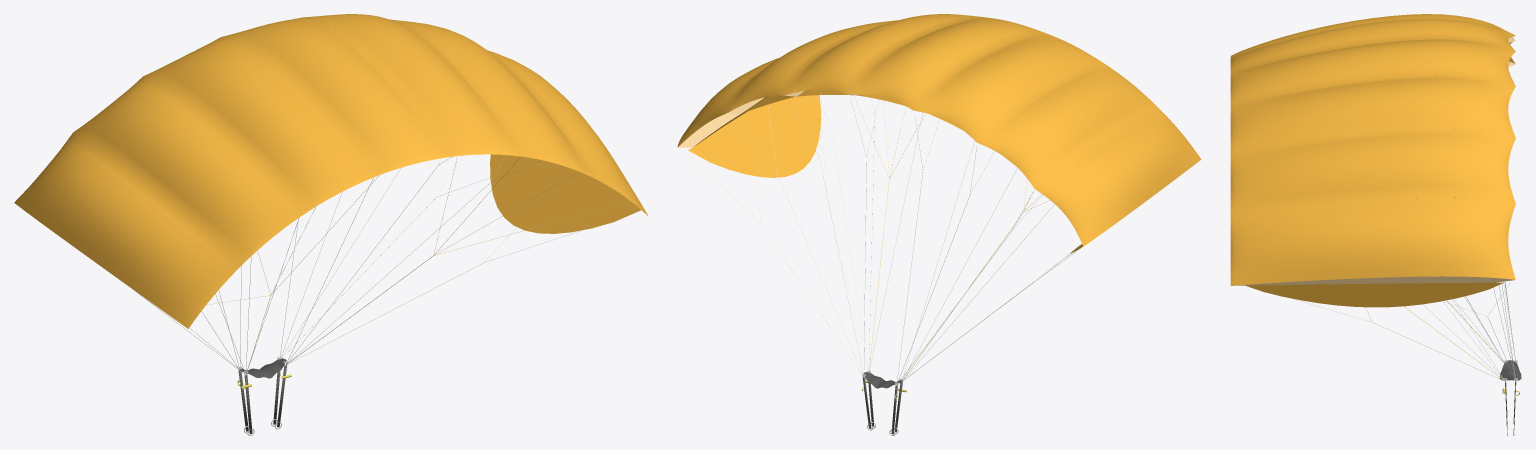
Rendered from PD_Optimum_160.glb.
The picture shows the model from 3 angles, left to right: view 1: azimuth 30°, elevation 25°; view 2: azimuth 150°, elevation 25°; view 3: azimuth 270°, elevation 25°; orthographic projection. The views are drawn at different scales.
Parts seen in each view (by area): view 1: TopSkin, Stabilizers, Lines, Risers, SteeringLines; view 2: TopSkin, Stabilizers, Lines, Ribs, BottomSkin, Risers, SteeringLines; view 3: TopSkin, Stabilizers, Ribs, Lines, Slider.
Boxes of the visible parts, left/top/right/bottom form: TopSkin: left=14, top=14, right=648, bottom=328; Stabilizers: left=490, top=154, right=640, bottom=233; Lines: left=138, top=155, right=579, bottom=374; Risers: left=237, top=359, right=291, bottom=435; SteeringLines: left=206, top=157, right=630, bottom=384; TopSkin: left=677, top=14, right=1201, bottom=246; Stabilizers: left=688, top=95, right=1082, bottom=253; Lines: left=685, top=95, right=1080, bottom=385; Ribs: left=677, top=68, right=868, bottom=147; BottomSkin: left=695, top=89, right=1064, bottom=214; Risers: left=862, top=375, right=906, bottom=435; SteeringLines: left=854, top=96, right=1049, bottom=378; TopSkin: left=1230, top=14, right=1515, bottom=285; Stabilizers: left=1246, top=282, right=1503, bottom=307; Ribs: left=1232, top=36, right=1515, bottom=285; Lines: left=1292, top=44, right=1515, bottom=381; Slider: left=1499, top=360, right=1521, bottom=380.
Size of the model in its own units: 4.88 by 3.89 by 2.68.
